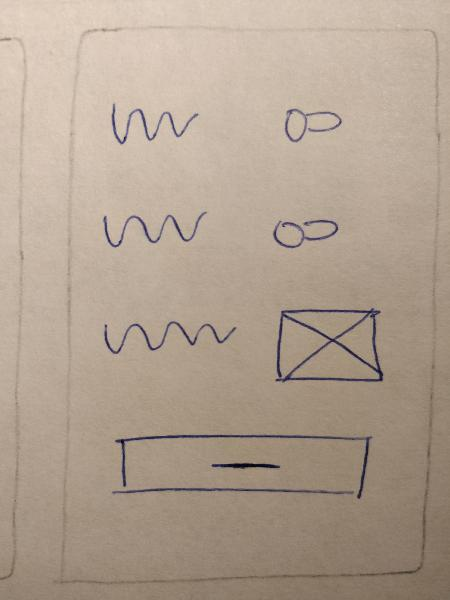button: (100, 426, 380, 507)
image: (265, 300, 392, 390)
switch: (262, 199, 348, 255), (272, 95, 351, 150)
text: (92, 308, 243, 364), (99, 91, 206, 150), (89, 202, 215, 250)
